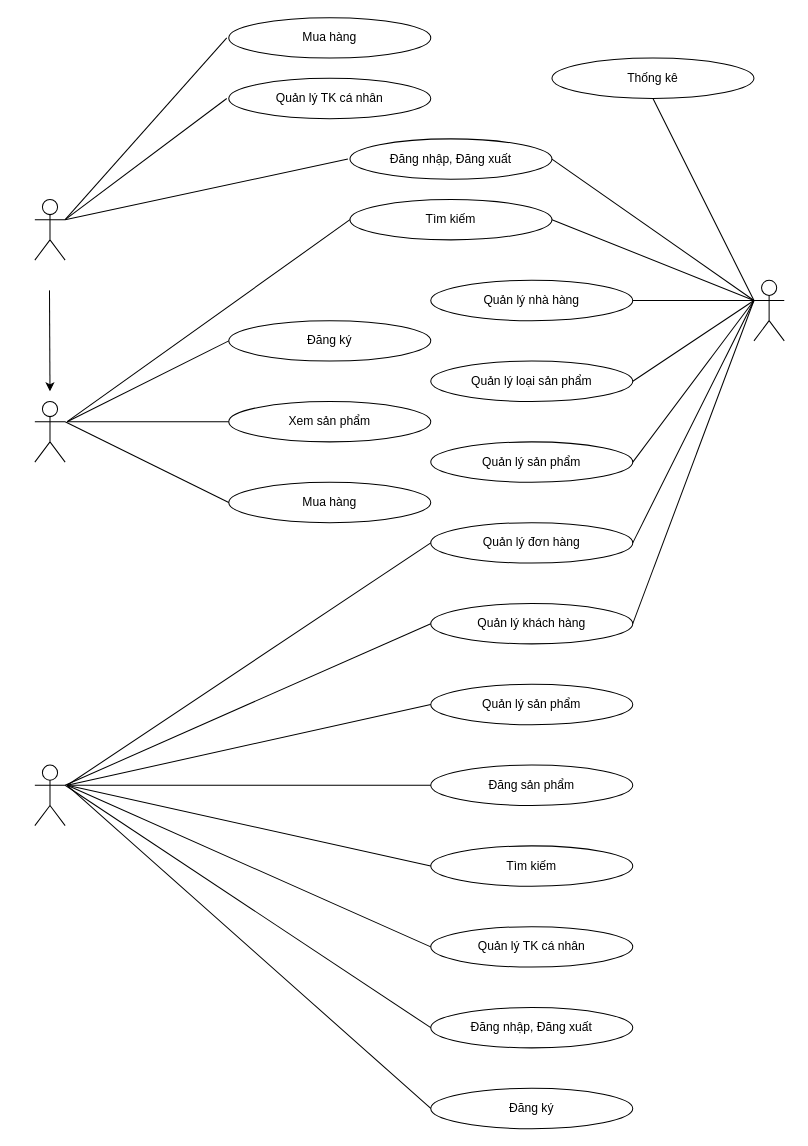
The diagram is 808 pixels wide and 1146 high, and some of its shapes have lost their labels. The shapes that lost their labels are listed below. From the top down, each one's centre as x and y in pixels, then its label:
the point at 49,229: Khách hàng
the point at 768,310: Quản trị
the point at 49,431: Khách xem
the point at 49,795: Nhà hàng
